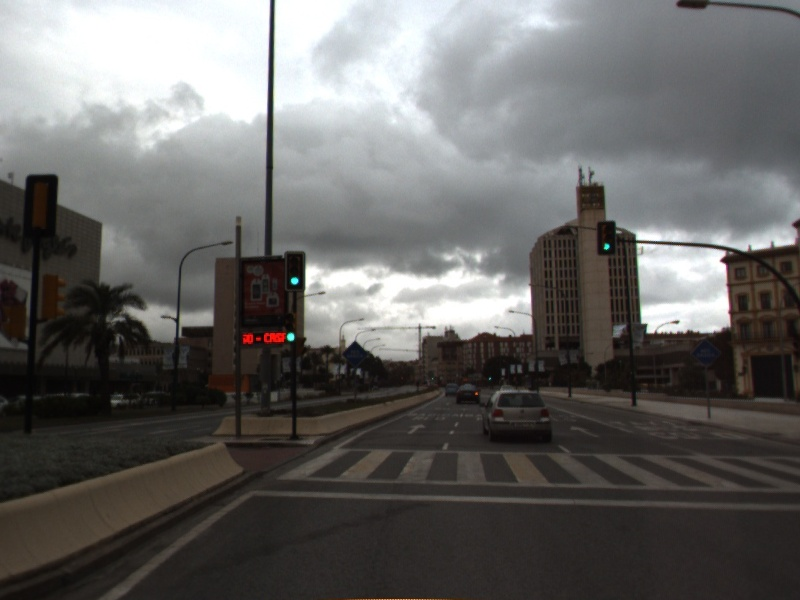STRAIGHT: (568, 423, 602, 439), (405, 421, 428, 436)
